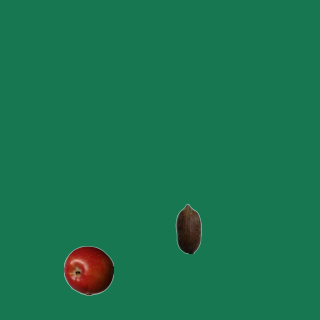Apple Braeburn: (63, 245, 113, 295)
Nut Pecan: (163, 203, 213, 253)
